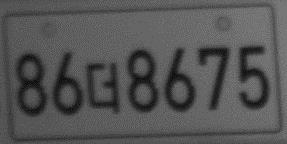5: (235, 43, 270, 111)
6: (161, 46, 196, 113), (51, 50, 84, 114)
7: (195, 45, 232, 110)
8: (15, 51, 49, 115), (126, 48, 159, 113)
더: (85, 60, 122, 115)
